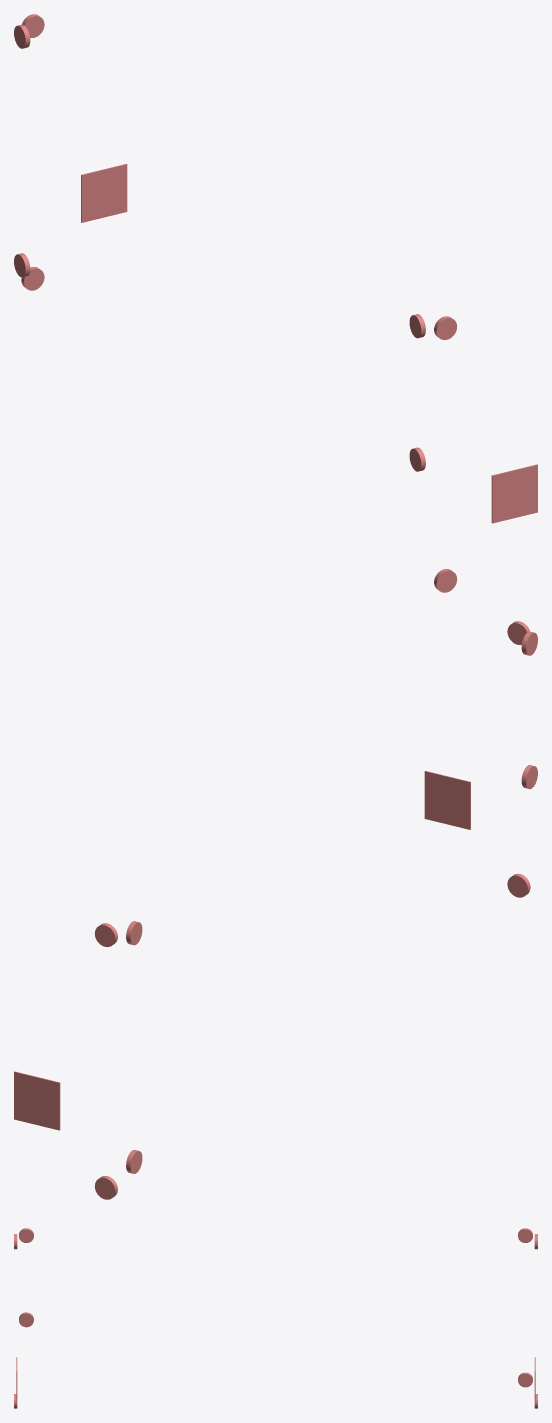
The model's file is WATER_HEATING SYSTEMS__HEAT PUMP VENTS & INTAKES.glb.
The picture shows the model from 3 angles, top to bottom: view 1: azimuth 30°, elevation 25°; view 2: azimuth 150°, elevation 25°; view 3: azimuth 270°, elevation 25°; orthographic projection. The views are drawn at different scales.
Visible parts, largest first — view 1: HEAT PUMP VENTS & INTAKES; view 2: HEAT PUMP VENTS & INTAKES; view 3: HEAT PUMP VENTS & INTAKES.
Part boxes in pixels (left/top/right/bottom): HEAT PUMP VENTS & INTAKES: left=14, top=14, right=537, bottom=592; HEAT PUMP VENTS & INTAKES: left=14, top=621, right=537, bottom=1199; HEAT PUMP VENTS & INTAKES: left=14, top=1228, right=537, bottom=1408.
Bounding box in the file's own units: 0.6398 × 1.46 × 4.01.
